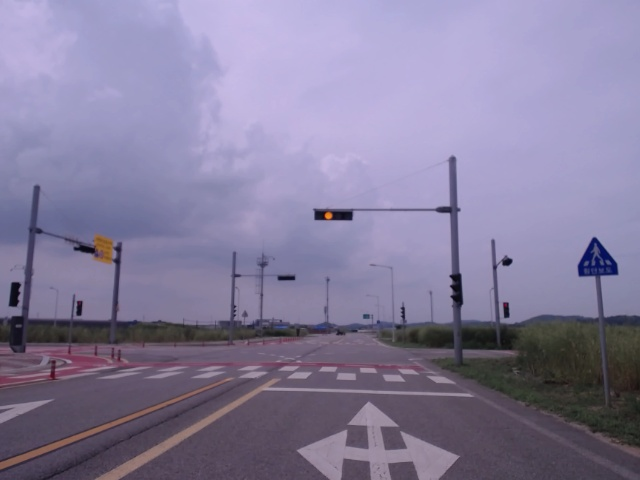orange_4: (312, 207, 354, 223)
